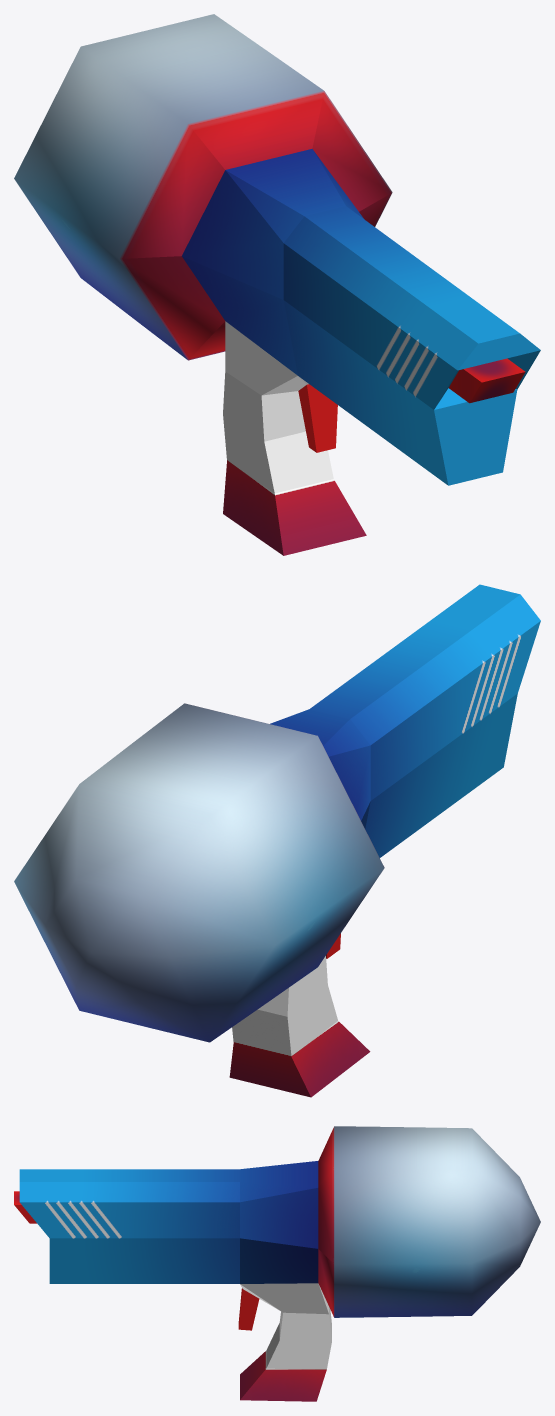
The model's file is watergun.fbx.
3 renders of one model, top to bottom at view 1: azimuth 30°, elevation 25°; view 2: azimuth 150°, elevation 25°; view 3: azimuth 270°, elevation 25°, orthographic. The views are drawn at different scales.
Parts seen in each view (by area): view 1: pSphere2; view 2: pSphere2; view 3: pSphere2.
Boxes of the visible parts, x1=… form: pSphere2: x1=14, y1=14, x2=540, y2=555; pSphere2: x1=14, y1=584, x2=540, y2=1097; pSphere2: x1=14, y1=1126, x2=540, y2=1401.
Bounding box in the file's own units: 0.1735 × 0.2339 × 0.4589.
Materials: 1 (1 with a texture image).
